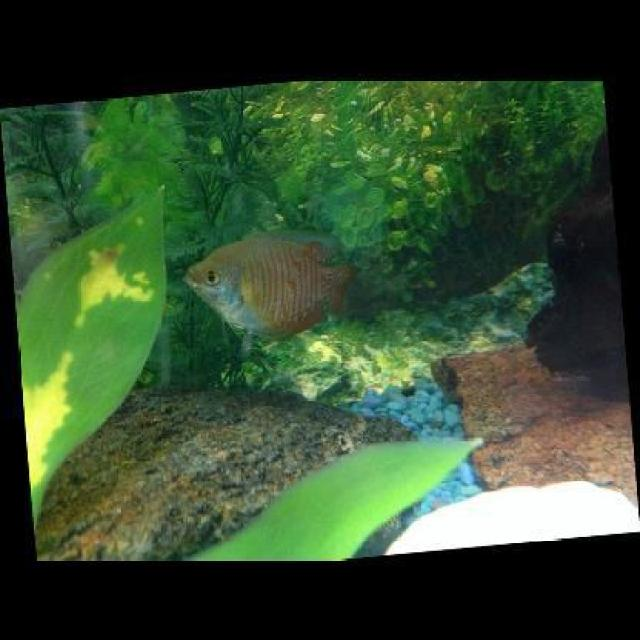Gourami: (179, 225, 359, 338)
